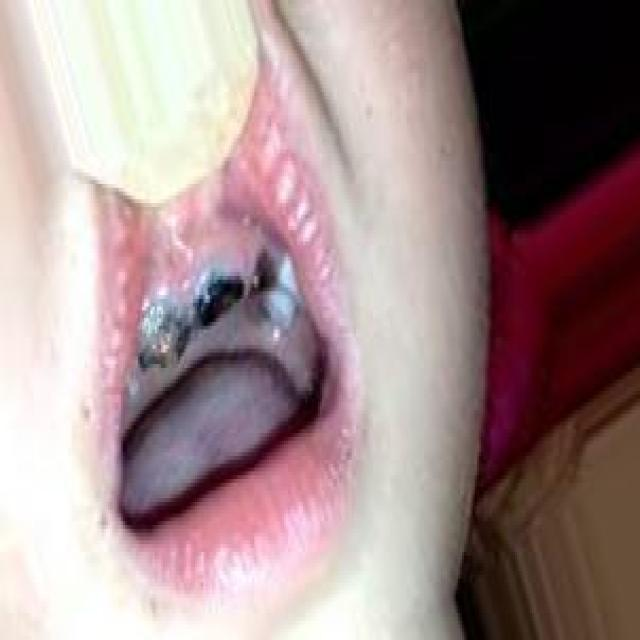caries: (242, 231, 300, 343), (186, 255, 250, 338), (130, 299, 195, 375)
